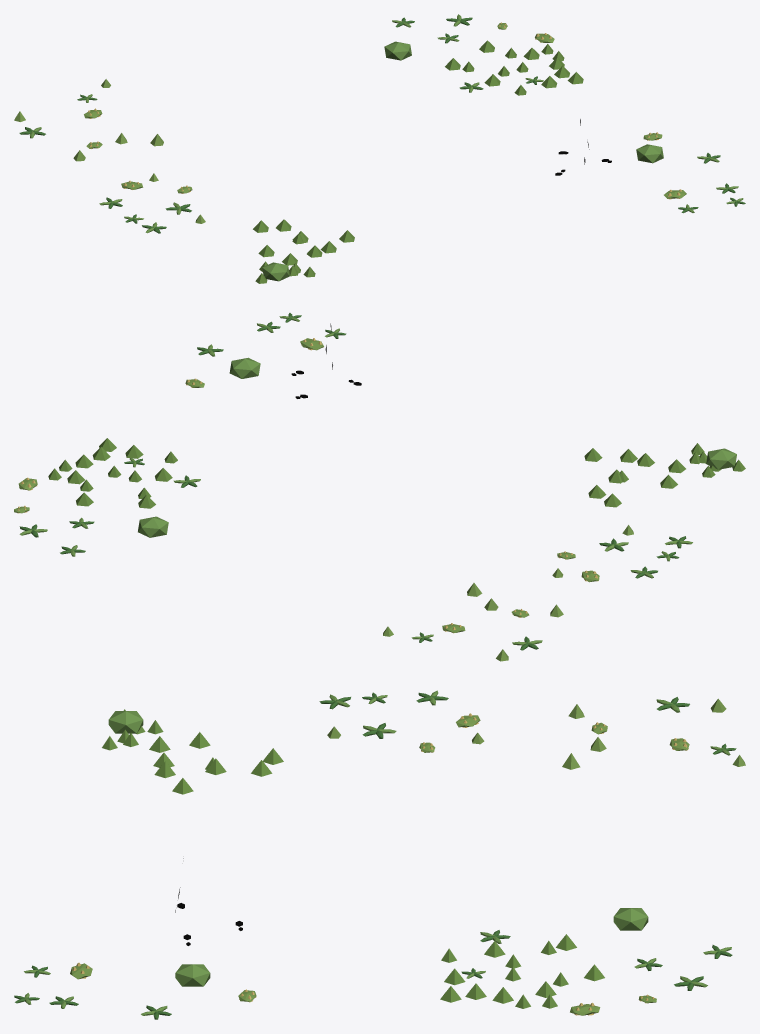
The model's file is ancient_oak_nonsolid_props.fbx.
The picture shows the model from 3 angles, top to bottom: view 1: azimuth 30°, elevation 25°; view 2: azimuth 150°, elevation 25°; view 3: azimuth 270°, elevation 25°; orthographic projection. The views are drawn at different scales.
Parts seen in each view (by area): view 1: chunk_ancient_oak__PropsNonSolid; view 2: chunk_ancient_oak__PropsNonSolid; view 3: chunk_ancient_oak__PropsNonSolid.
Part boxes in pixels (box(x1,y1,x2,y2)): chunk_ancient_oak__PropsNonSolid: box(14, 14, 745, 283); chunk_ancient_oak__PropsNonSolid: box(14, 313, 745, 661); chunk_ancient_oak__PropsNonSolid: box(14, 690, 745, 1019).
Bounding box in the file's own units: 191 × 24.14 × 179.
